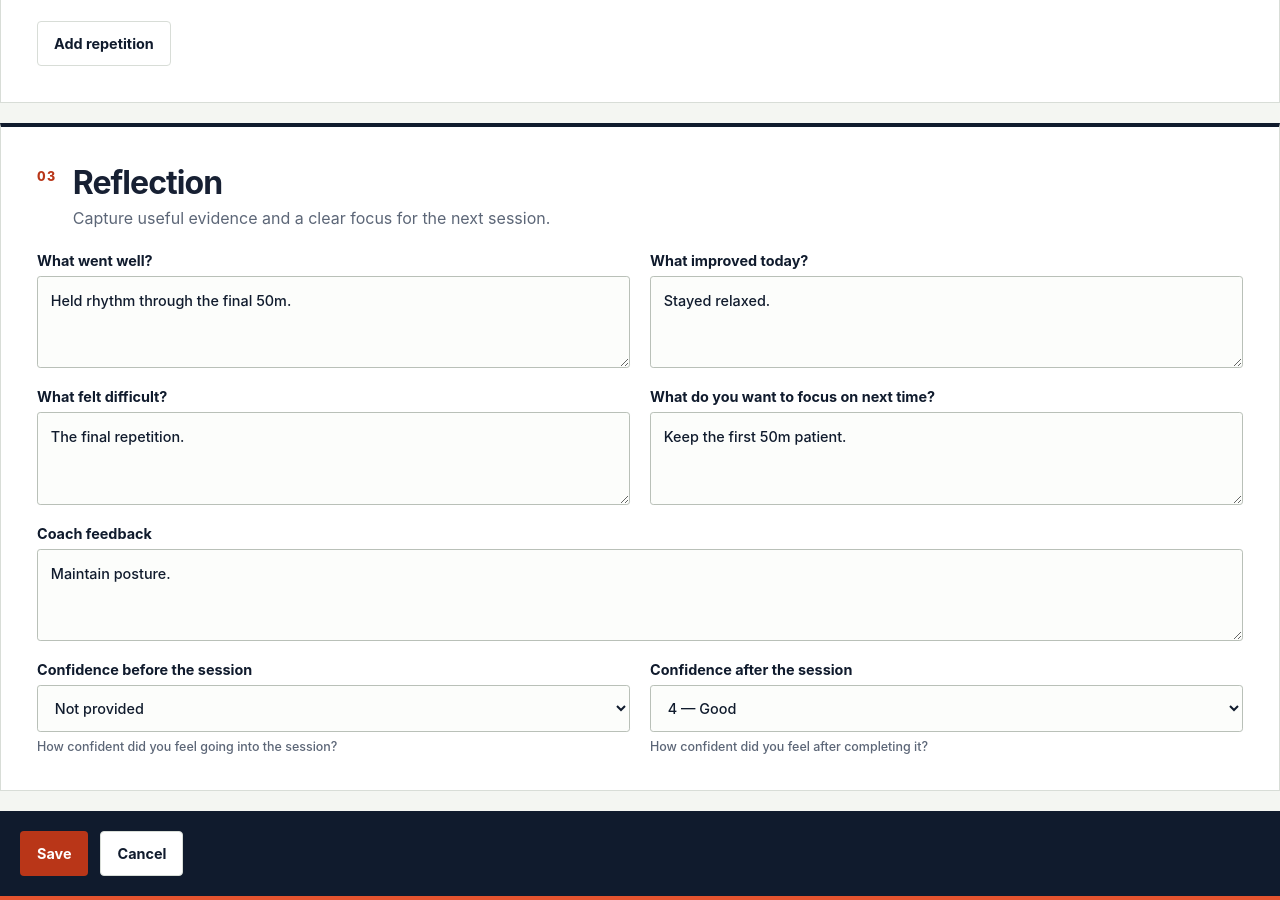
session completion and reflection › does not submit confidence outside the valid range
This screenshot has width=1280, height=900.
(page scrolled)
Click the button "Save": (54, 854) [20,831,88,876]
(page scrolled)
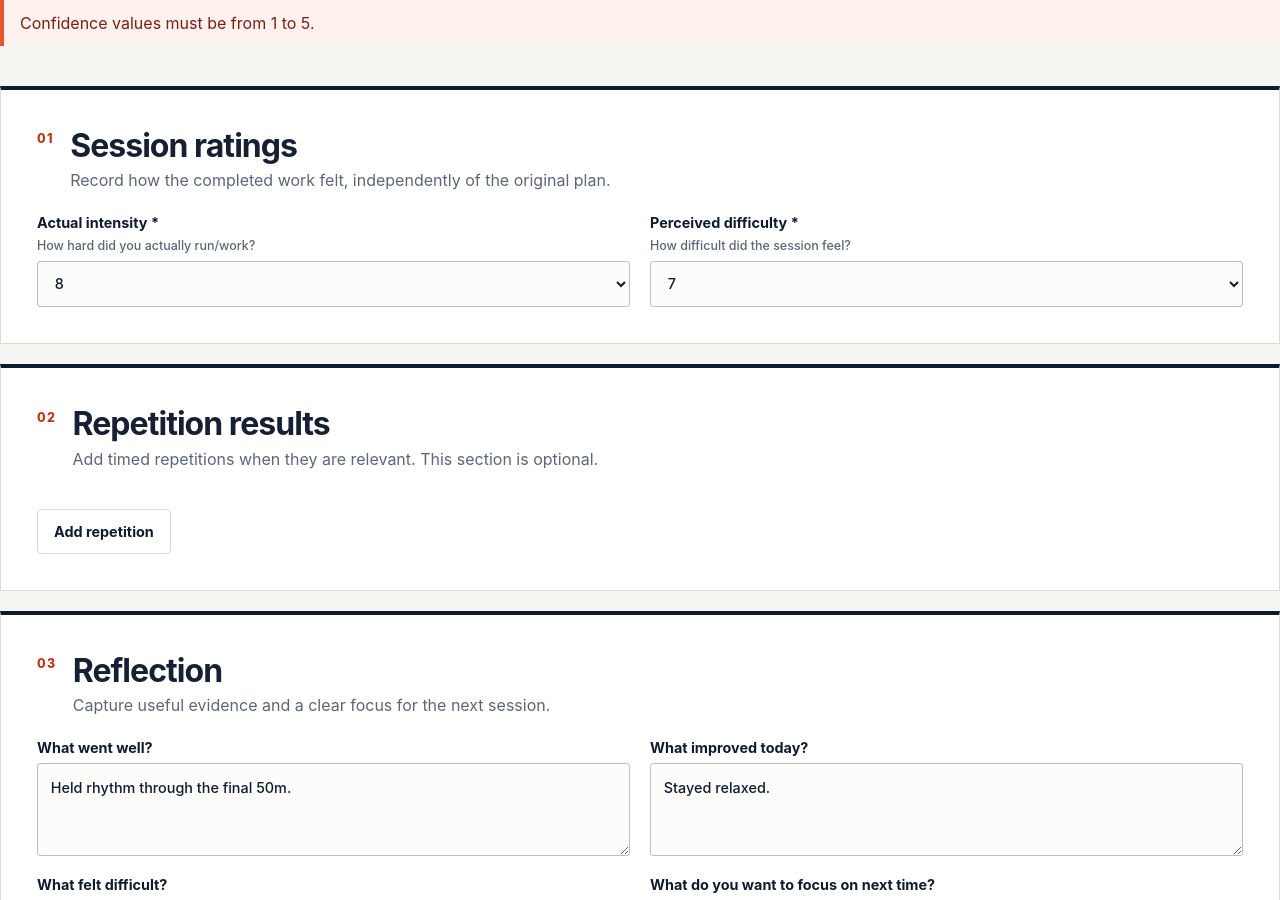
Expected: the message reads "Confidence values must be from 1 to 5.", [20,13,314,33]
